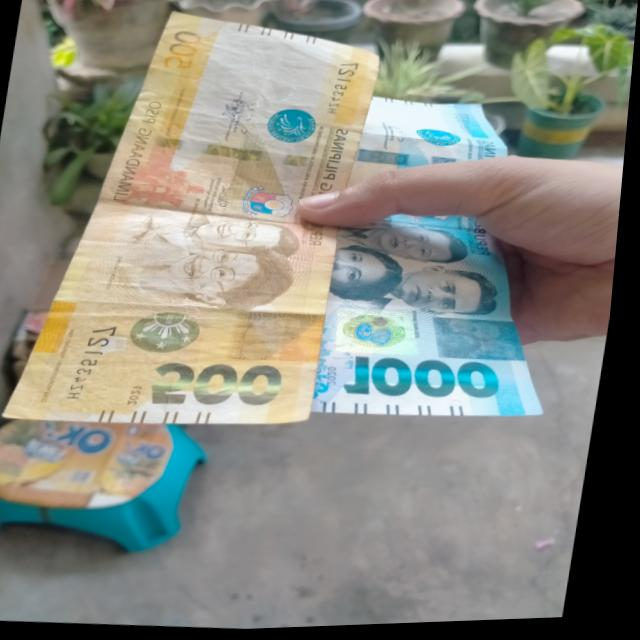concealed_value: (228, 307, 333, 372), (435, 319, 542, 367)
optically_variable_device: (109, 300, 231, 368), (339, 306, 436, 364)
security_thread: (114, 125, 360, 177), (356, 146, 516, 181)
value: (349, 343, 519, 414), (154, 352, 297, 418)
